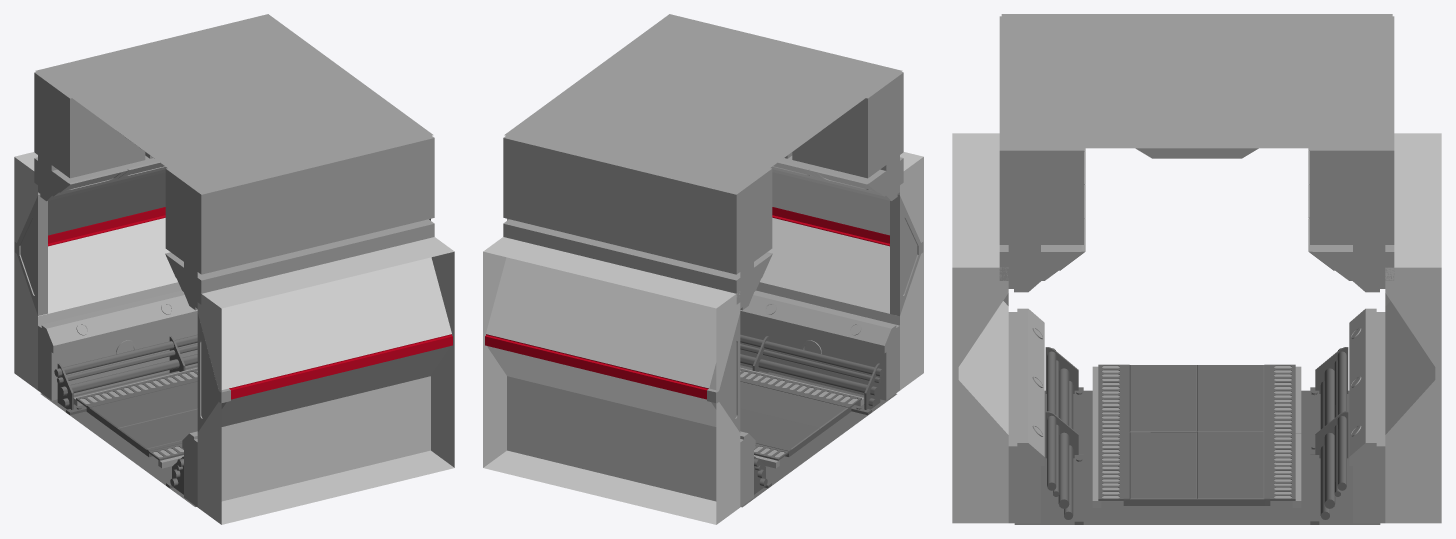
Rendered from Coridoor_chunk_1_MayaRemodel_NoUVs.fbx.
The picture shows the model from 3 angles, left to right: view 1: azimuth 30°, elevation 25°; view 2: azimuth 150°, elevation 25°; view 3: azimuth 270°, elevation 25°; orthographic projection. The views are drawn at different scales.
Parts seen in each view (by area): view 1: polySurface74, Roof, polySurface52, polySurface102, polySurface114, polySurface10, polySurface51, polySurface103, polySurface116, Floor, polySurface81, polySurface4 (+7 smaller); view 2: polySurface102, Roof, polySurface10, polySurface74, polySurface75, polySurface52, polySurface81, polySurface4, Floor, polySurface103, polySurface116, polySurface51 (+7 smaller); view 3: Roof, polySurface102, polySurface74, polySurface10, Floor, polySurface52, polySurface75, polySurface114, polySurface49, polySurface88, polySurface81, polySurface103 (+20 smaller).
Part boxes in pixels (x1=…): polySurface74: x1=197, y1=237, x2=454, y2=524; Roof: x1=35, y1=14, x2=433, y2=191; polySurface52: x1=165, y1=135, x2=434, y2=274; polySurface102: x1=14, y1=152, x2=181, y2=390; polySurface114: x1=38, y1=290, x2=197, y2=400; polySurface10: x1=34, y1=72, x2=167, y2=196; polySurface51: x1=166, y1=219, x2=434, y2=304; polySurface103: x1=89, y1=381, x2=197, y2=434; polySurface116: x1=14, y1=195, x2=47, y2=315; Floor: x1=40, y1=365, x2=197, y2=506; polySurface81: x1=118, y1=409, x2=197, y2=454; polySurface4: x1=197, y1=313, x2=230, y2=432; polySurface102: x1=483, y1=237, x2=740, y2=524; Roof: x1=504, y1=14, x2=902, y2=191; polySurface10: x1=503, y1=136, x2=772, y2=304; polySurface74: x1=756, y1=152, x2=923, y2=390; polySurface75: x1=740, y1=290, x2=899, y2=400; polySurface52: x1=784, y1=72, x2=903, y2=178; polySurface81: x1=740, y1=381, x2=848, y2=434; polySurface4: x1=890, y1=195, x2=923, y2=316; Floor: x1=740, y1=365, x2=896, y2=507; polySurface103: x1=740, y1=409, x2=819, y2=454; polySurface116: x1=707, y1=313, x2=740, y2=432; polySurface51: x1=771, y1=156, x2=903, y2=196; Roof: x1=1001, y1=14, x2=1392, y2=158; polySurface102: x1=1385, y1=133, x2=1441, y2=523; polySurface74: x1=952, y1=133, x2=1008, y2=523; polySurface10: x1=1310, y1=16, x2=1394, y2=280; Floor: x1=1014, y1=390, x2=1380, y2=524; polySurface52: x1=999, y1=16, x2=1083, y2=244; polySurface75: x1=1008, y1=308, x2=1044, y2=523; polySurface114: x1=1349, y1=308, x2=1385, y2=523; polySurface49: x1=1129, y1=432, x2=1196, y2=505; polySurface88: x1=1197, y1=432, x2=1264, y2=505; polySurface81: x1=1129, y1=365, x2=1196, y2=432; polySurface103: x1=1197, y1=365, x2=1264, y2=431.
Size of the model in its own units: 551 by 720 by 849.
